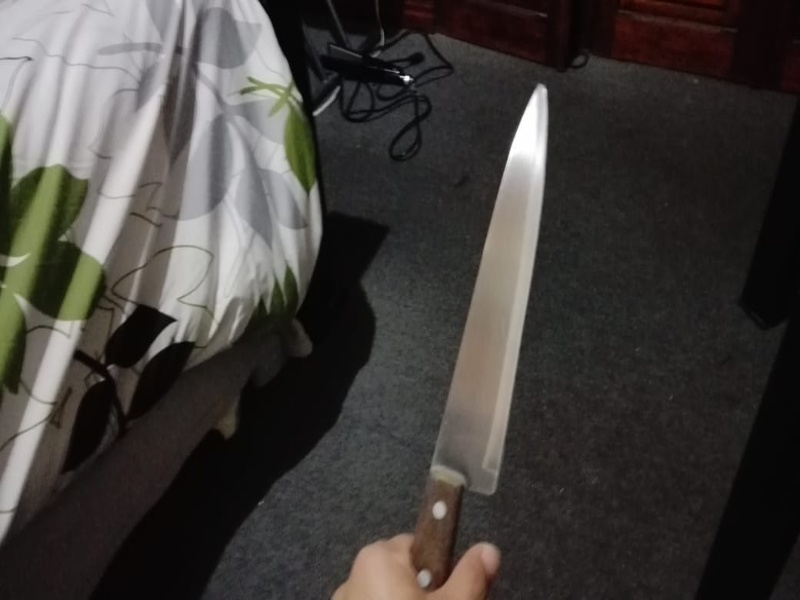hand: (329, 532, 503, 600)
knife: (410, 82, 549, 595)
